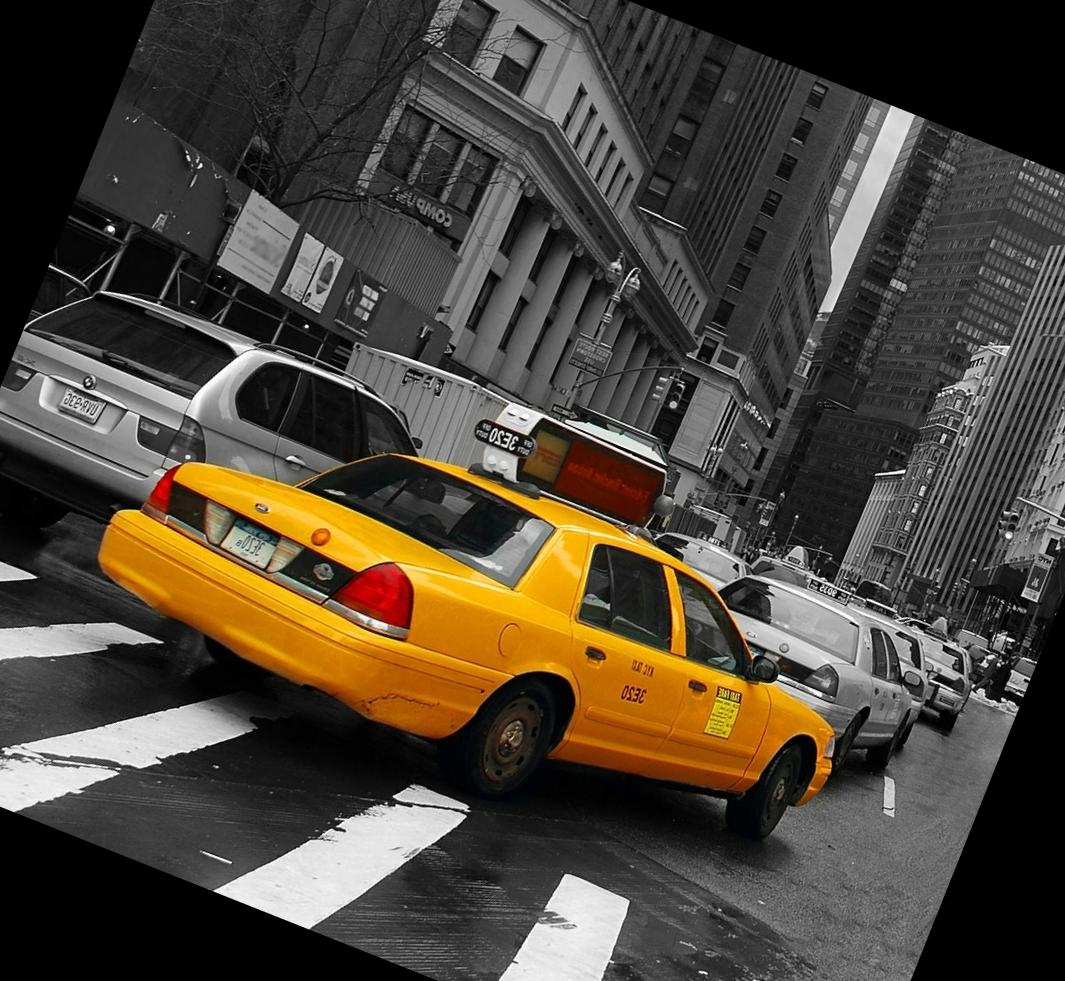taxi: (95, 436, 842, 860)
